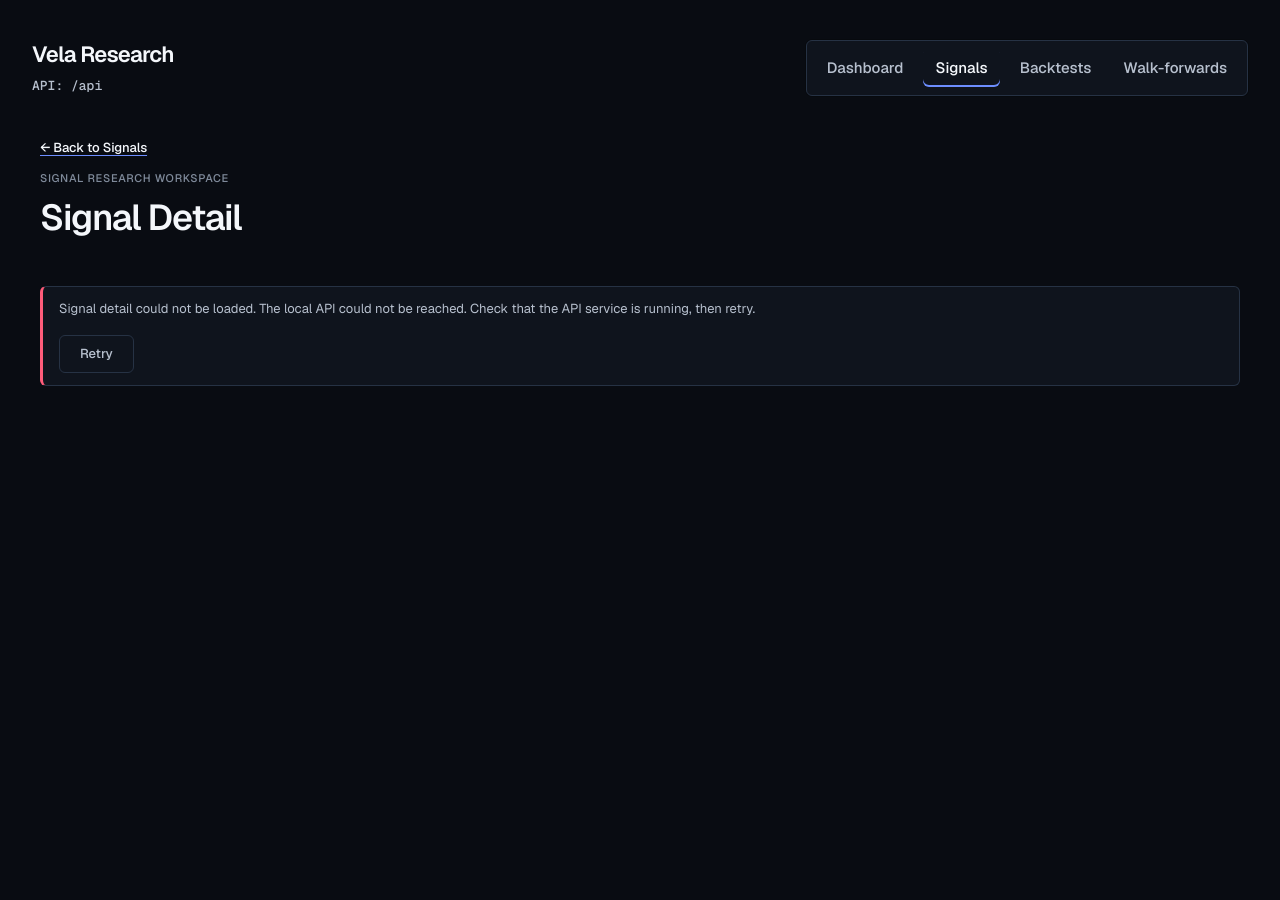
recovers the signal detail read through Retry
The image size is (1280, 900).
Click the button "Retry".
click(96, 354)  # box [59,335,134,373]
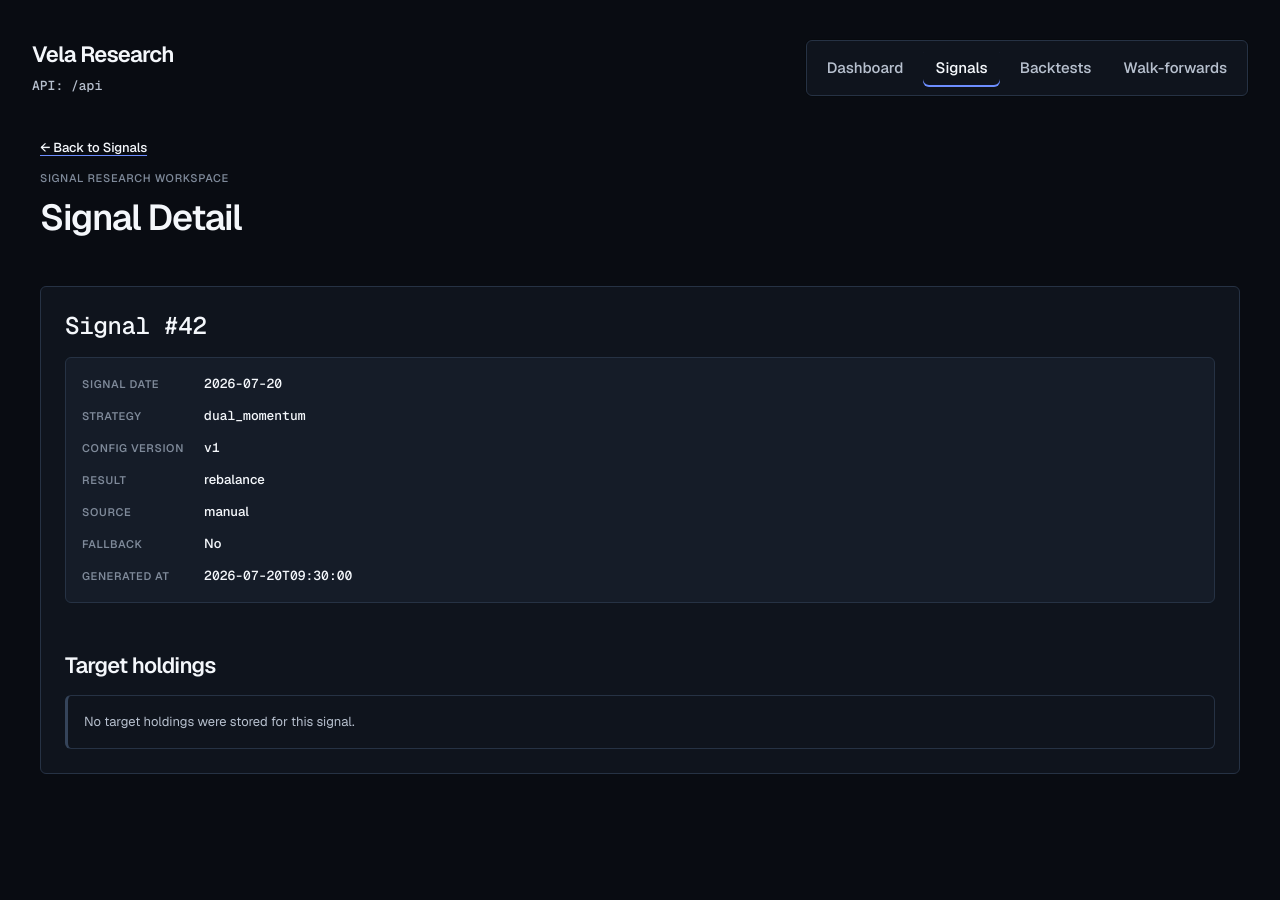
Now the text "Signal #42" is shown, box [65,310,207,341]
Now the message is gone
